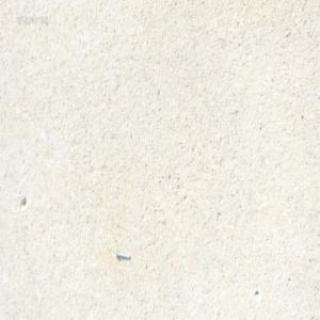Nailtrack_idkeyframe: (114, 249, 130, 259)
